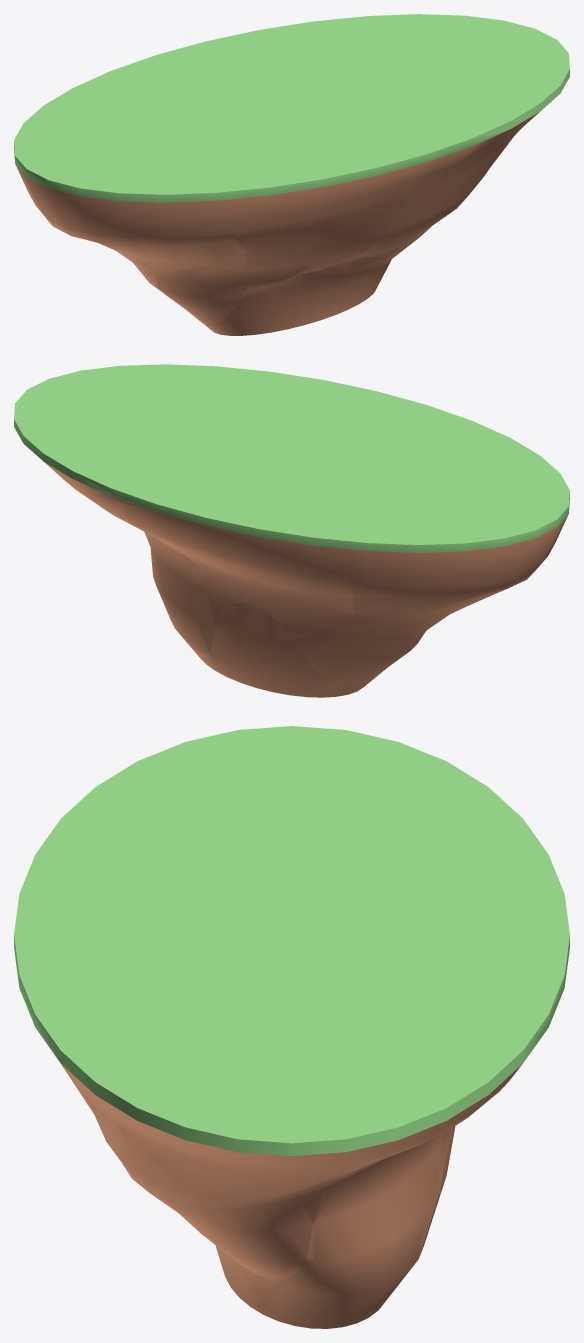
Rendered from prototype_Terrain.fbx.
3 renders of one model, top to bottom at view 1: azimuth 30°, elevation 25°; view 2: azimuth 150°, elevation 25°; view 3: azimuth 270°, elevation 25°, orthographic. The views are drawn at different scales.
Visible parts, largest first — view 1: piece 2, pievce 1, base piece, piece 3, piece 12, piece 6, piece 8, piece 10, piece 11, piece 9, piece 5, piece 7 (+1 smaller); view 2: piece 6, base piece, piece 5, piece 11, pievce 1, piece 10, piece 2, piece 8, piece 7, piece 3, piece 9, piece 12 (+1 smaller); view 3: base piece, piece 10, piece 8, pievce 1, piece 9, piece 6, piece 2, piece 3, piece 11, piece 7, piece 5, piece 12 (+1 smaller).
Boxes of the visible parts, x1,y1,x2,y2 form: piece 2: (226,135,435,291); pievce 1: (15,141,245,271); base piece: (192,63,388,335); piece 3: (356,105,531,257); piece 12: (150,102,247,325); piece 6: (85,22,327,94); piece 8: (436,16,561,152); piece 10: (279,33,435,286); piece 11: (54,81,193,294); piece 9: (386,52,513,261); piece 5: (14,82,127,159); piece 7: (309,14,471,51); piece 6: (114,474,354,638); base piece: (195,415,389,697); piece 5: (350,519,529,623); piece 11: (293,488,497,683); pievce 1: (439,435,569,588); piece 10: (91,422,231,657); piece 2: (315,378,503,452); piece 8: (14,373,182,440); piece 7: (22,428,141,524); piece 3: (181,365,323,415); piece 9: (112,373,265,428); piece 12: (335,439,448,688); base piece: (138,867,466,1326); piece 10: (233,960,476,1328); piece 8: (110,1062,437,1203); pievce 1: (56,726,355,854); piece 9: (110,981,349,1278); piece 6: (439,830,569,1194); piece 2: (14,825,204,993); piece 3: (22,947,181,1188); piece 11: (284,760,455,894); piece 7: (350,1007,549,1169); piece 5: (342,732,530,845); piece 12: (114,821,380,878).
Bounding box in the file's own units: 1913 × 739 × 1077.
